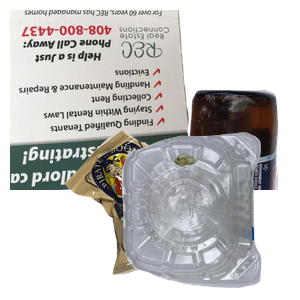glass: (87, 87, 300, 267)
paper: (10, 10, 201, 190)
plastic: (119, 130, 300, 300)
trash: (61, 127, 260, 300)
